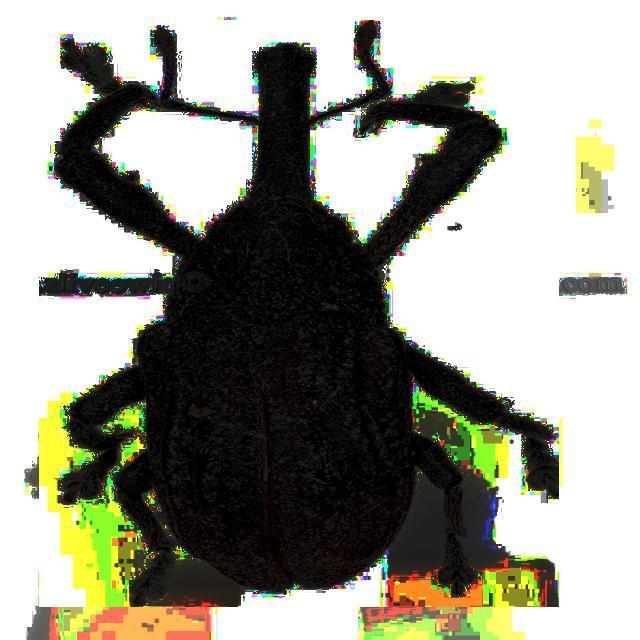rice-bug: (39, 20, 559, 607)
